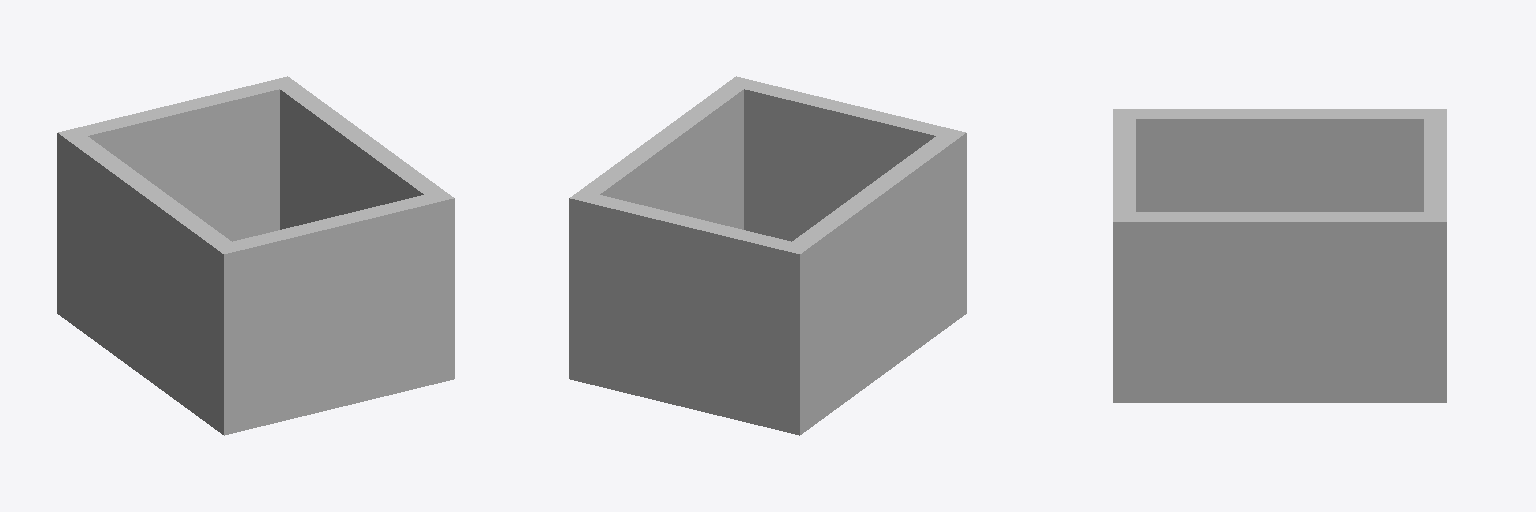
The model's file is minecart2.obj.
The picture shows the model from 3 angles: view 1: azimuth 30°, elevation 25°; view 2: azimuth 150°, elevation 25°; view 3: azimuth 270°, elevation 25°; orthographic projection.
Parts seen in each view (by area): view 1: Cube.004; view 2: Cube.004; view 3: Cube.004.
Boxes of the visible parts, box(x1,y1,x2,y2) form: Cube.004: box(57, 76, 454, 435); Cube.004: box(569, 76, 966, 435); Cube.004: box(1113, 109, 1446, 402).
Bounding box in the file's own units: 2.4 × 1.8 × 3.